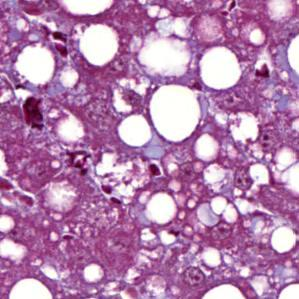steatosis: (81, 23, 121, 69), (118, 111, 152, 154)
